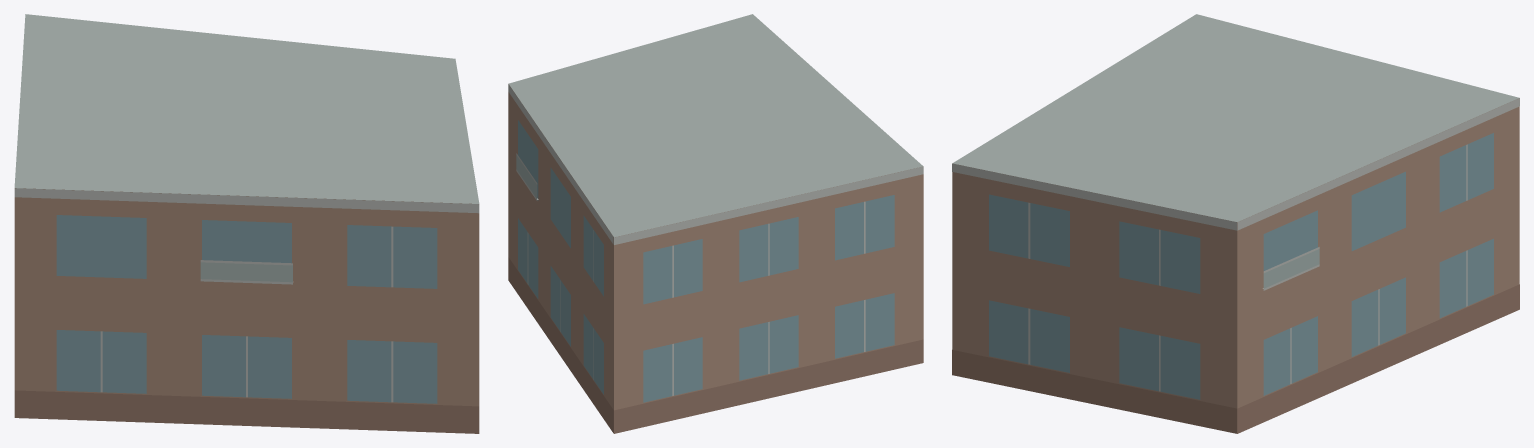
File: survey-upis-32891574.glb
The picture shows the model from 3 angles, left to right: view 1: azimuth 30°, elevation 25°; view 2: azimuth 150°, elevation 25°; view 3: azimuth 270°, elevation 25°; orthographic projection. The views are drawn at different scales.
Visible parts, largest first — view 1: survey-upis-32891574.tmp; view 2: survey-upis-32891574.tmp; view 3: survey-upis-32891574.tmp.
Part boxes in pixels (left/top/right/bottom): survey-upis-32891574.tmp: left=14, top=14, right=479, bottom=433; survey-upis-32891574.tmp: left=508, top=14, right=923, bottom=433; survey-upis-32891574.tmp: left=952, top=14, right=1519, bottom=433.
Size of the model in its own units: 12.88 by 6.1 by 14.84.
